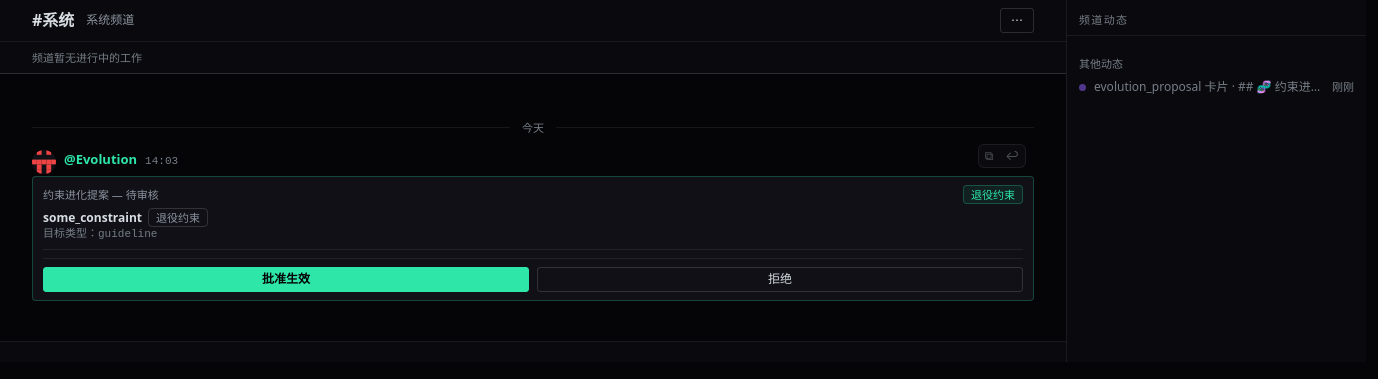
ChannelDetailPage — evolution_proposal 审核分发 › approve → POST /review-proposals/evolution/:proposalId/approve，卡片显示已批准
The image size is (1378, 379).
Click the button "批准生效": (286, 279) left=43, top=267, right=529, bottom=292
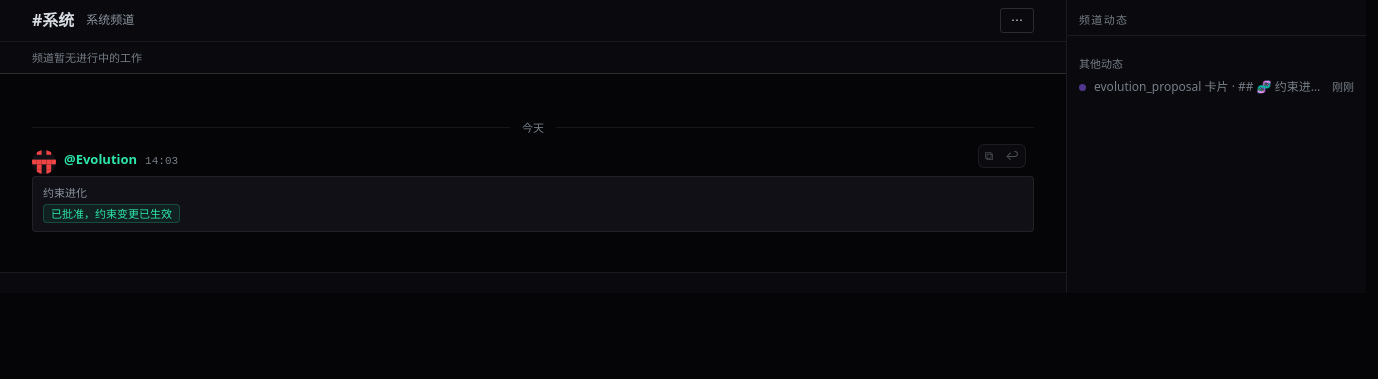
Check: the text "已批准，约束变更已生效" is shown, box left=43, top=204, right=180, bottom=223
